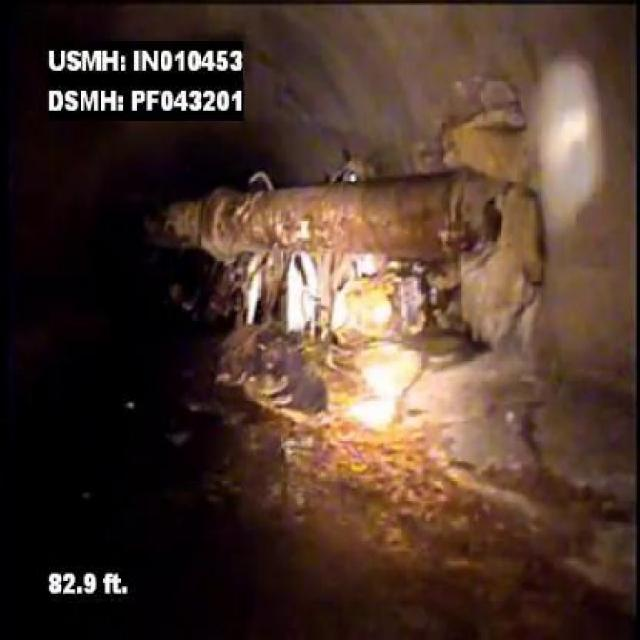Obstacle: (443, 194, 543, 391), (297, 268, 440, 368)
Utility intrusion: (311, 162, 489, 270)
